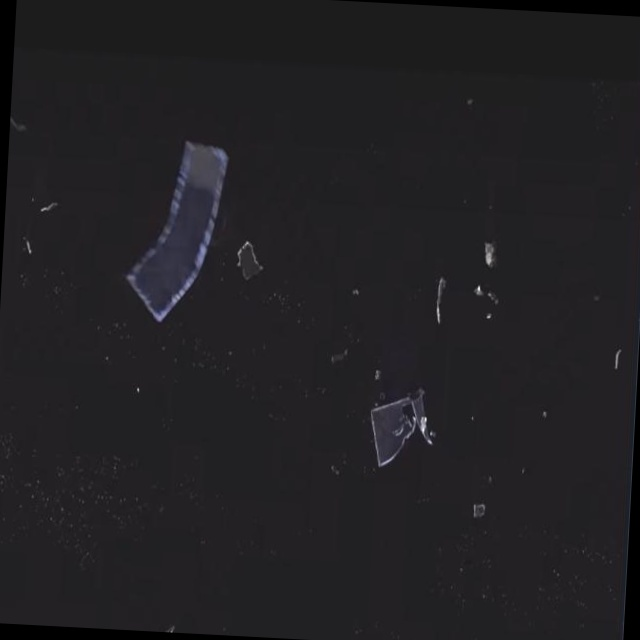large_debris: (114, 103, 241, 339), (362, 371, 444, 482), (462, 225, 514, 341), (417, 245, 455, 349), (224, 225, 270, 288), (470, 482, 494, 530)
